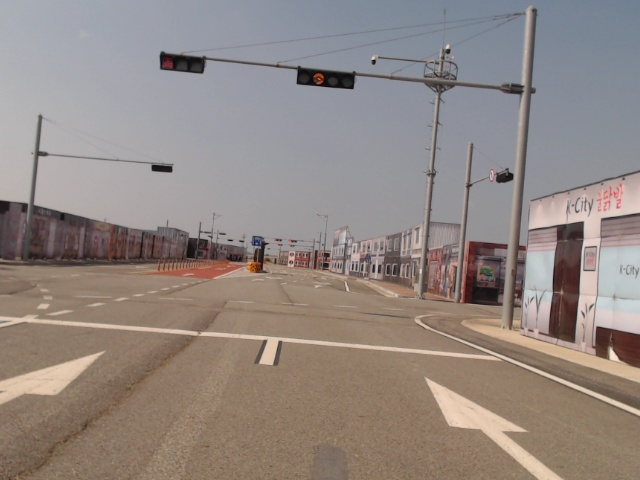orange_4: (296, 66, 356, 91)
